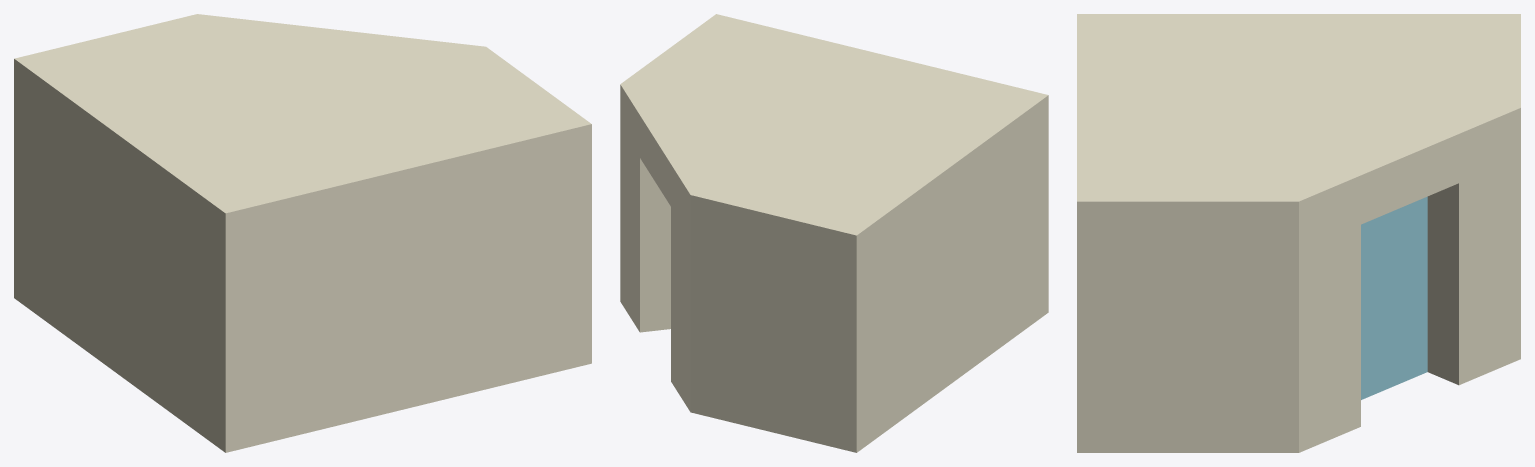
File: building_037.fbx
3 renders of one model, left to right at view 1: azimuth 30°, elevation 25°; view 2: azimuth 150°, elevation 25°; view 3: azimuth 270°, elevation 25°, orthographic. The views are drawn at different scales.
Parts seen in each view (by area): view 1: building_037; view 2: building_037; view 3: building_037.
Part boxes in pixels (box(x1,y1,x2,y2)): building_037: box(14, 14, 591, 452); building_037: box(620, 14, 1048, 452); building_037: box(1077, 14, 1520, 452).
Size of the model in its own units: 10 by 6.25 by 10.
